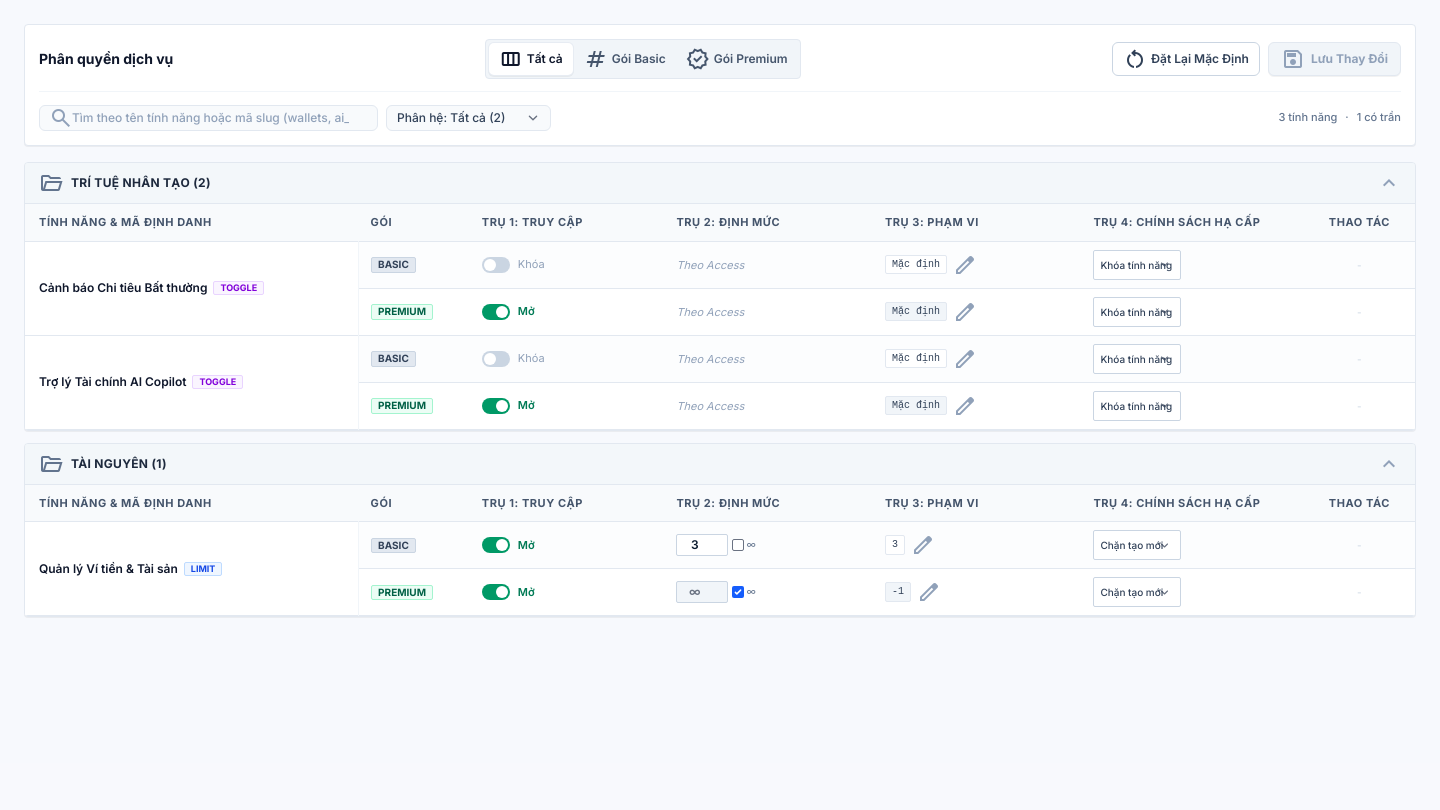
Test case: Phân Quyền Dịch Vụ — 2-Tier Testing Architecture (Rule 11) › ⚡ TẦNG 2: Kiểm thử hoạt động thực tế & Tác động hệ thống (System Impact Verification) › 2.2. Tác động chuyển đổi Tab xem: Tab "Tất cả" hiển thị cả 2 gói gộp; chuyển tab "Gói Basic" lọc đúng gói tương ứng
The image size is (1440, 810).
Expected: the text "Cảnh báo Chi tiêu Bất thường" is shown, [39,280,208,296]
Expected: the 1st text "BASIC" is shown, [371,257,416,273]
Note: Chuyển sang Tab "Gói Basic"
What coordinates should you click on to do the following:
click the button with test id "tab-viewmode-basic"
I would click on:
 (625, 59)
Its box is [574,43,676,75].
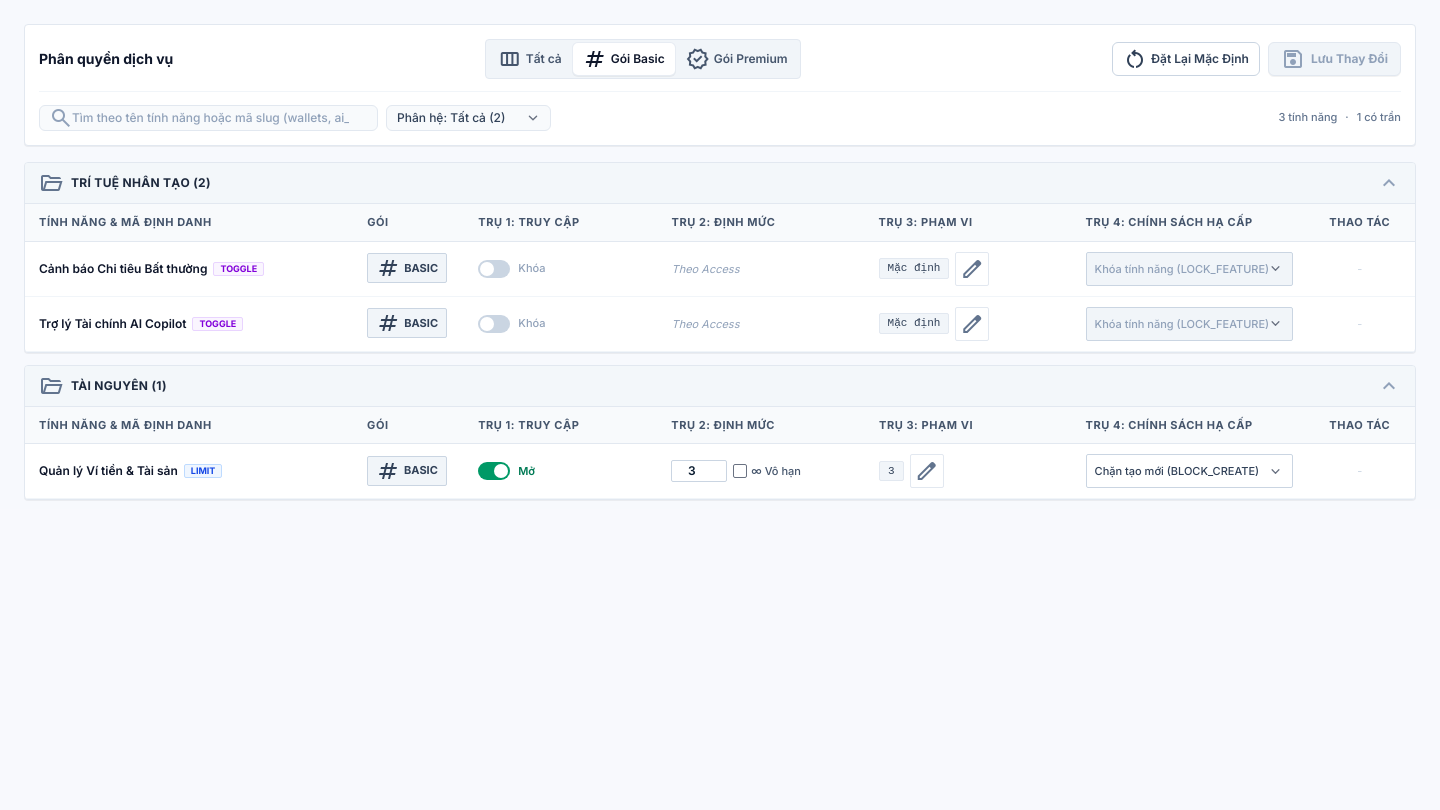
Expected: the text "BASIC" in the row of "Cảnh báo Chi tiêu Bất thường" is shown, [404,261,438,275]
Note: Chuyển lại Tab "Tất cả"
What coordinates should you click on to do the following:
click the button with test id "tab-viewmode-all"
I would click on:
 (530, 59)
Its box is [488,43,572,75].
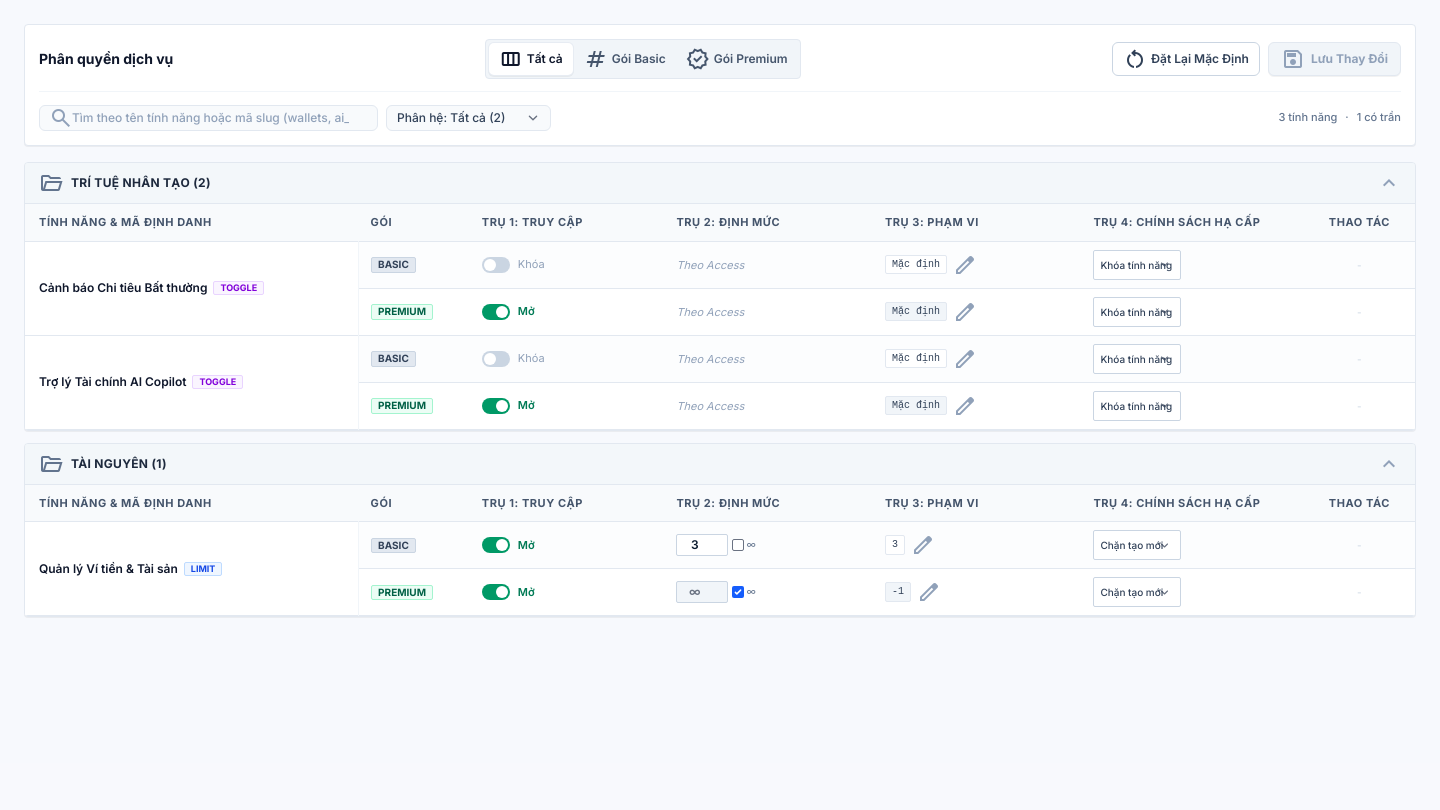
Expected: the 1st text "BASIC" is shown, [371,257,416,273]
Expected: the 1st text "PREMIUM" is shown, [371,304,433,320]
